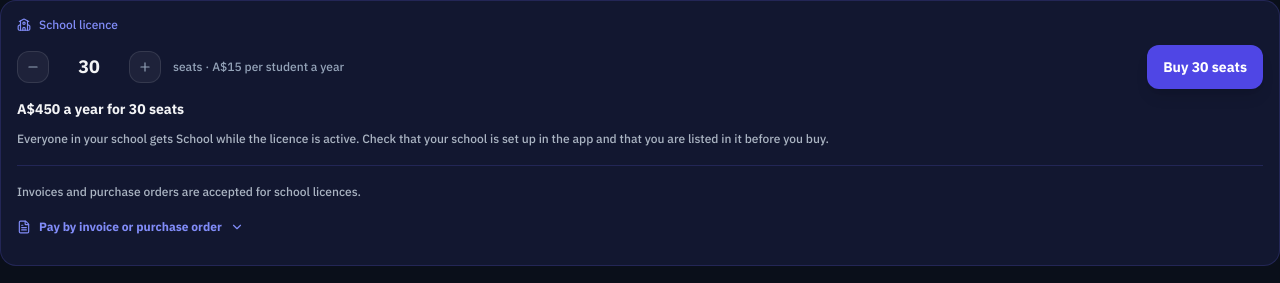
it: the school licence panel: a colleague manages the school licence › keeps the manage button after the server refuses a purchase because the licence is held
Click the button "Buy 30 seats" at (1205, 67), box [1147,45,1263,89]
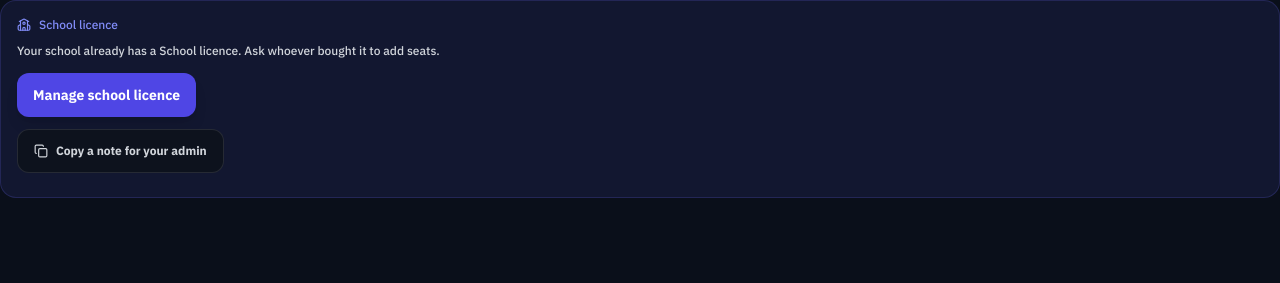
Now the text "Your school already has a School licence" is shown, box [17,43,440,58]
Now the button "Buy 30 seats" is gone
Now the button "Manage school licence" is shown, box [17,73,196,117]
